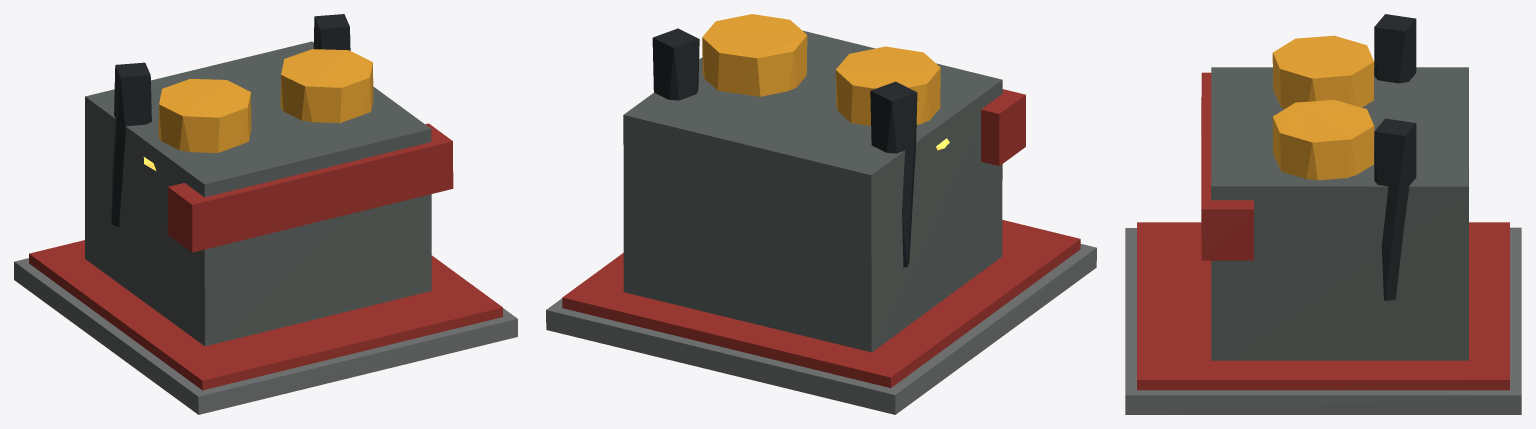
The model's file is SM_Soviet_SU_PowerPlant_LOD3.fbx.
The picture shows the model from 3 angles, left to right: view 1: azimuth 30°, elevation 25°; view 2: azimuth 150°, elevation 25°; view 3: azimuth 270°, elevation 25°; orthographic projection. The views are drawn at different scales.
Parts seen in each view (by area): view 1: LOD03_SM_Soviet_SU_PowerPlant; view 2: LOD03_SM_Soviet_SU_PowerPlant; view 3: LOD03_SM_Soviet_SU_PowerPlant.
Part boxes in pixels (x1,y1,x2,y2): LOD03_SM_Soviet_SU_PowerPlant: (14, 14, 517, 414); LOD03_SM_Soviet_SU_PowerPlant: (546, 14, 1096, 414); LOD03_SM_Soviet_SU_PowerPlant: (1125, 14, 1521, 414).
Bounding box in the file's own units: 597 × 597 × 425.
